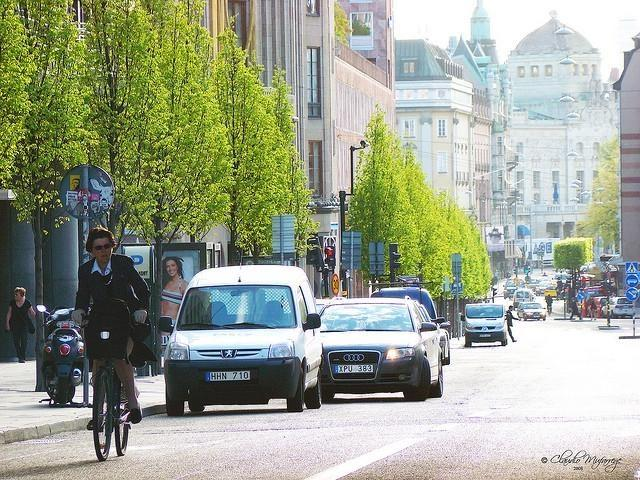bicycle: (88, 358, 130, 462), (546, 304, 552, 316)
car: (158, 264, 323, 418), (320, 292, 447, 402), (368, 280, 453, 359), (460, 303, 510, 348), (601, 297, 633, 316), (516, 302, 546, 320), (536, 279, 550, 295), (546, 285, 558, 300), (552, 274, 567, 284)
motorcycle: (35, 302, 85, 405)
truck: (158, 264, 324, 414), (461, 303, 510, 347)
